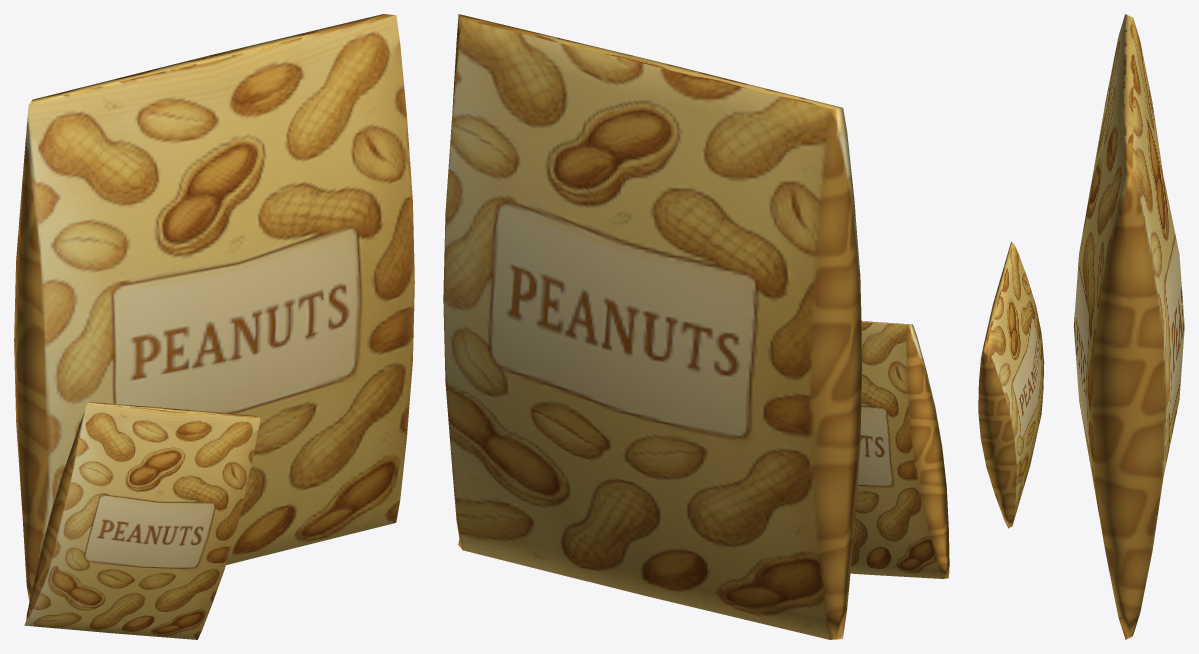
File: peanut.fbx
3 renders of one model, left to right at view 1: azimuth 30°, elevation 25°; view 2: azimuth 150°, elevation 25°; view 3: azimuth 270°, elevation 25°, orthographic. The views are drawn at different scales.
Visible parts, largest first — view 1: pCube47, pCube52; view 2: pCube47, pCube52; view 3: pCube47, pCube52.
Part boxes in pixels (box(x1,y1,x2,y2)): pCube47: box(14, 14, 414, 601); pCube52: box(24, 402, 260, 639); pCube47: box(443, 14, 862, 639); pCube52: box(850, 321, 949, 578); pCube47: box(1073, 14, 1184, 639); pCube52: box(978, 242, 1044, 528).
Size of the model in its own units: 3.22 by 3.69 by 1.48.
Materials: 1 (1 with a texture image).
